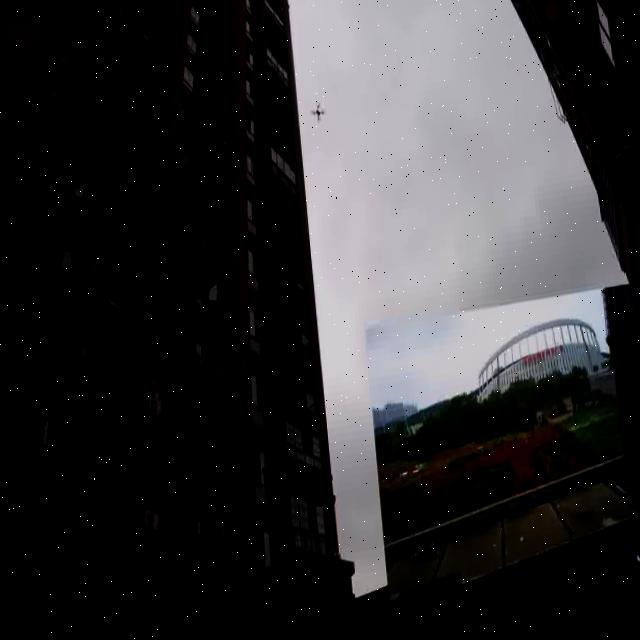drone: (307, 104, 327, 130)
